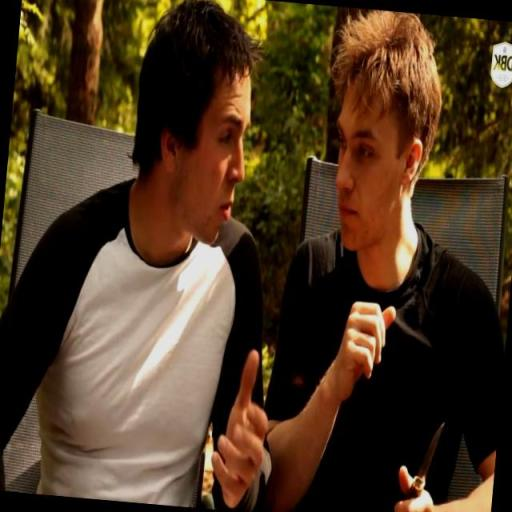knife: (388, 400, 454, 512)
